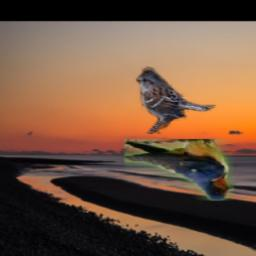Sparrow: (135, 68, 215, 135)
Swallow: (123, 140, 233, 202)
